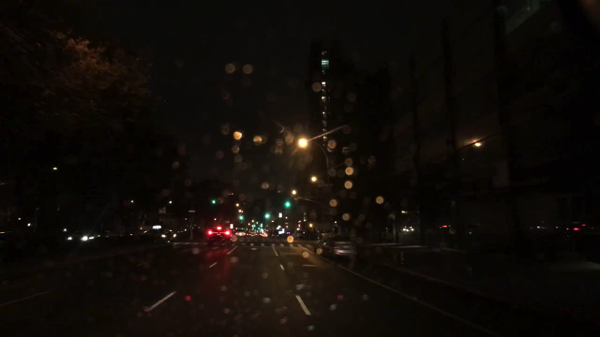car: (321, 236, 357, 260), (312, 233, 338, 254), (205, 226, 232, 245), (140, 225, 174, 240), (66, 230, 101, 243), (105, 228, 133, 238), (176, 228, 195, 235), (235, 228, 246, 237), (294, 229, 303, 238), (247, 229, 256, 237), (259, 232, 267, 236)
traffic light: (209, 199, 218, 206), (285, 199, 291, 209), (264, 212, 271, 220), (238, 214, 244, 221)
traffic sign: (493, 160, 509, 187), (187, 209, 196, 213), (278, 212, 283, 218), (229, 223, 233, 229)
